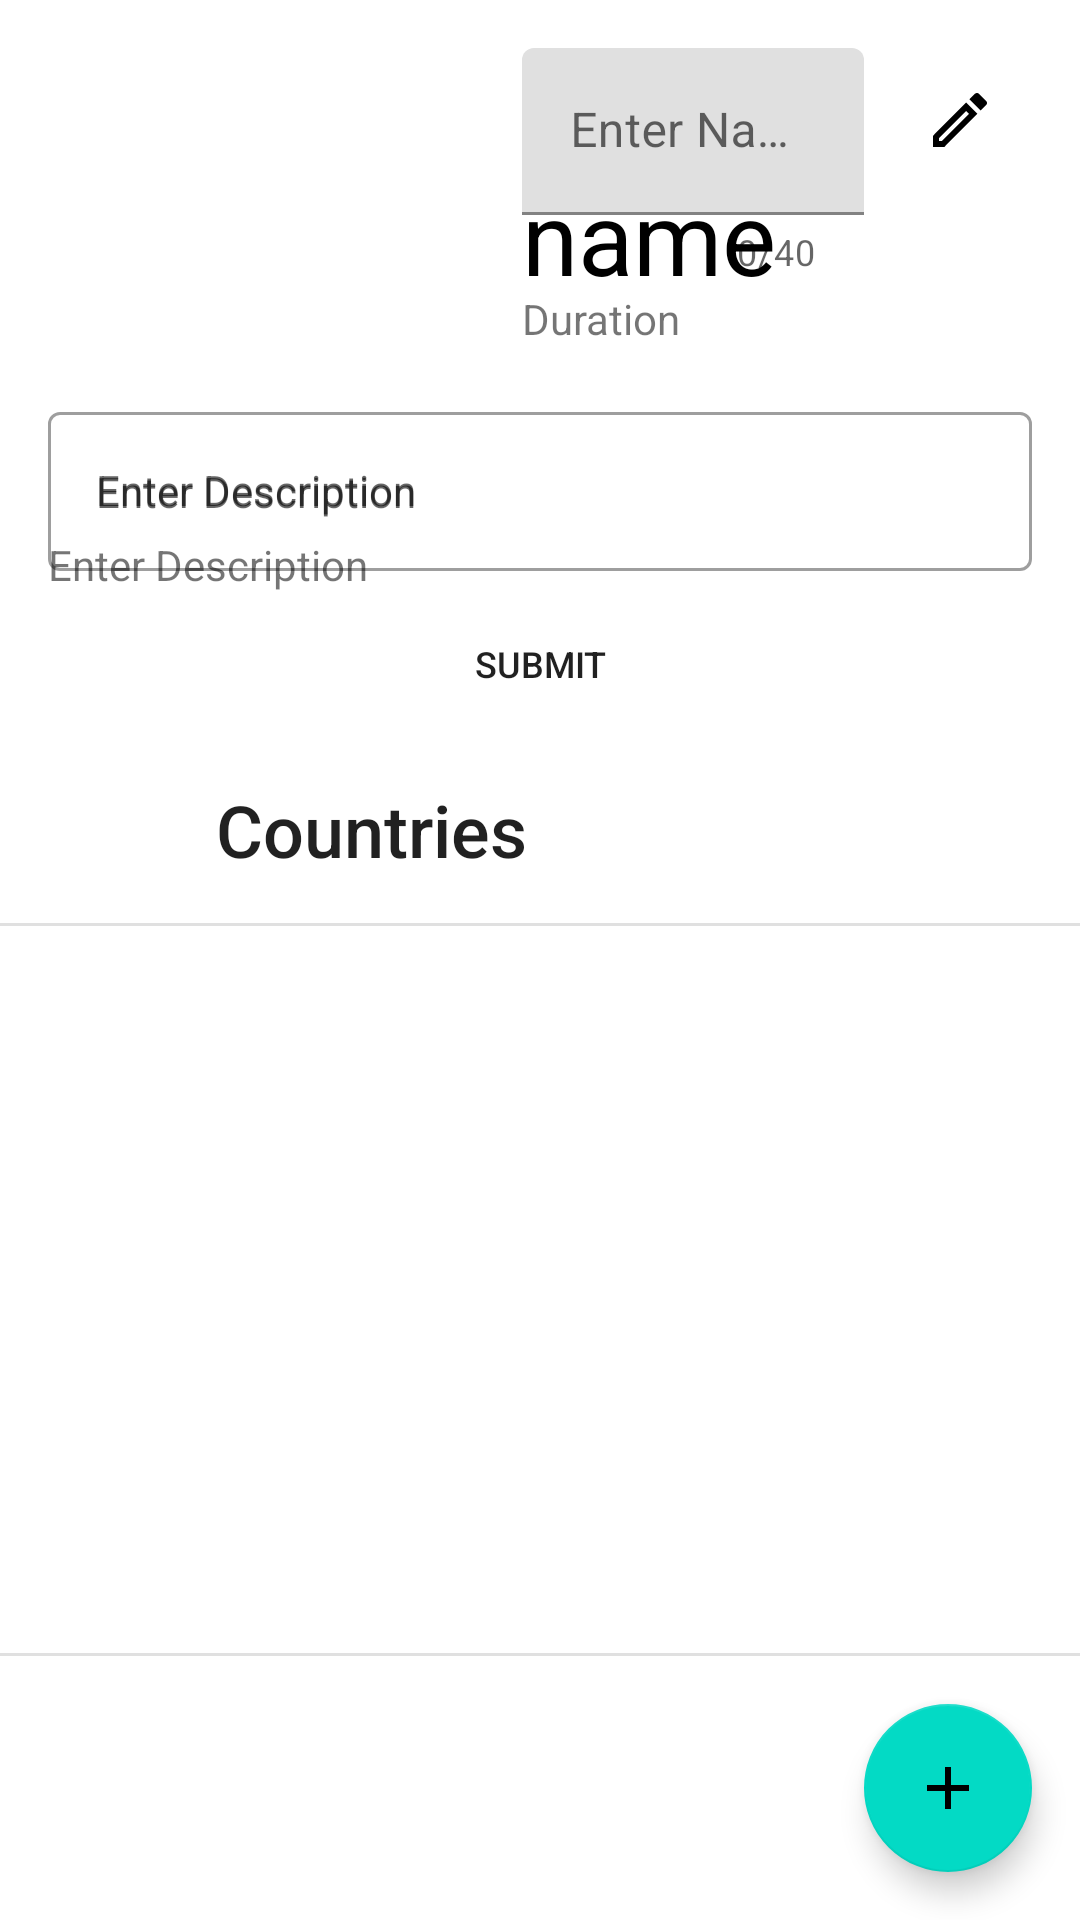

Named icons in this screenshot (1080×1920) and their centers, (x,y):
Add country: (948,1788)
Edit: (960,120)
